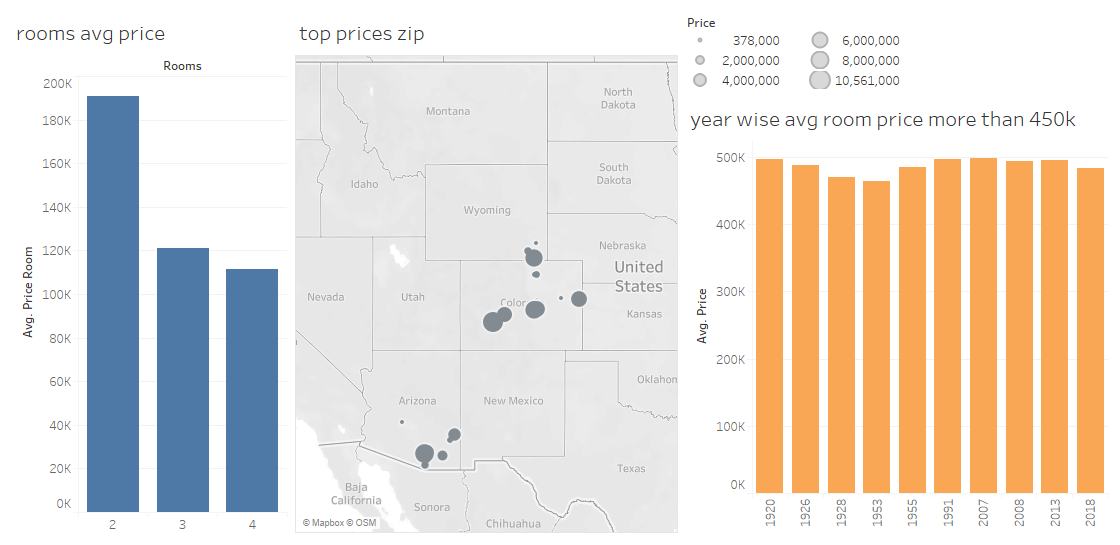

Layout of this report page (visuals, bound fields, positions):
{"tool":"tableau","page":{"name":"Dashboard 1","canvas":[1166,568],"ordinal":0},"visuals":[{"type":"worksheet","title":"Sheet 1","mark":"Automatic","rows":["price_room"],"cols":["rooms"],"box":[8,8,283,552]},{"type":"worksheet","title":"Sheet 2","mark":"Automatic","box":[291,8,437,552]},{"type":"legend","title":"Sheet 2","param":"[federated.04t5yno0st5ro21anw9f00dcr5ea].[sum:price:qk]","box":[728,8,430,86]},{"type":"worksheet","title":"Sheet 3","mark":"Automatic","rows":["price"],"cols":["construction_year - Split 1"],"box":[728,94,430,466]}]}

Visuals, with their boxes in screenshot pixels (x1, y1, x2, y2), scaled from the page's 1166x568 canvas onto the 1120x545 screenshot:
"Sheet 1" worksheet: Rect(8, 8, 280, 537)
"Sheet 2" worksheet: Rect(280, 8, 699, 537)
"Sheet 2" legend: Rect(699, 8, 1112, 90)
"Sheet 3" worksheet: Rect(699, 90, 1112, 537)
